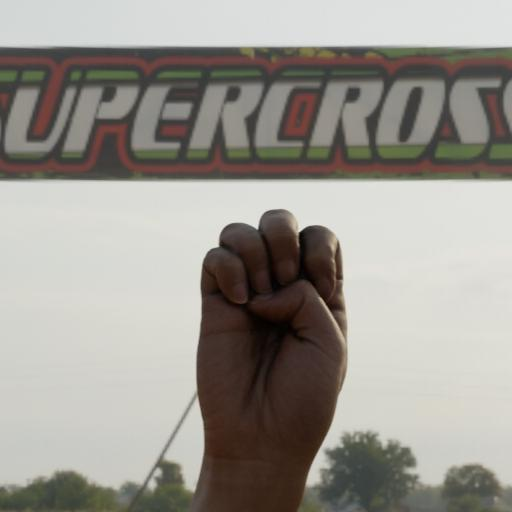E: (187, 203, 352, 453)
